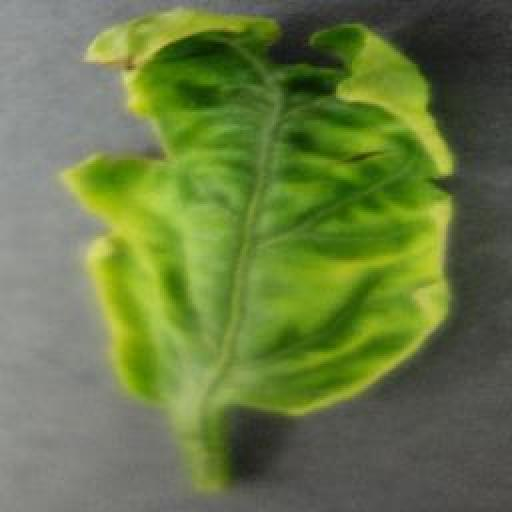disease_tomato: (62, 6, 454, 422)
